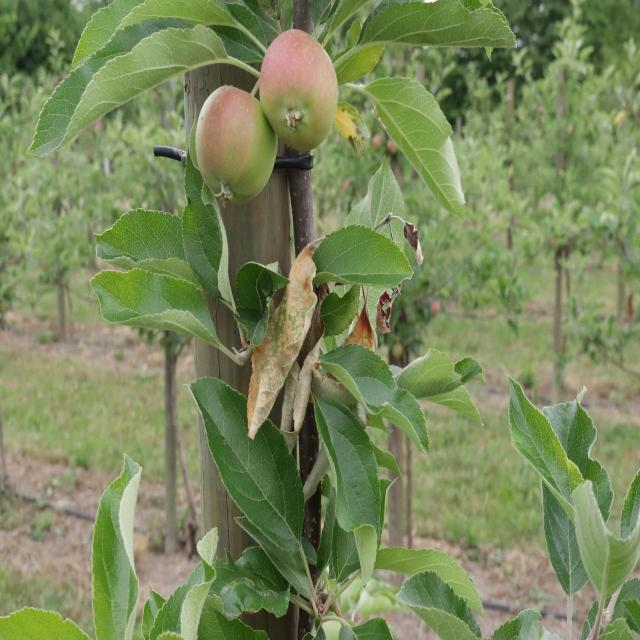-FireBlight-: (256, 234, 328, 436), (354, 295, 394, 371)
